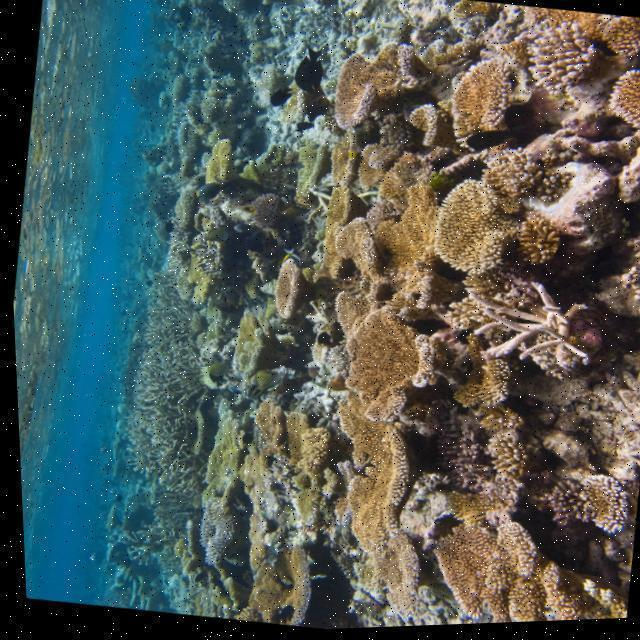Healthy Coral: (246, 0, 640, 633), (449, 275, 602, 389), (234, 389, 366, 499), (227, 542, 316, 632), (252, 252, 318, 331), (278, 142, 330, 218), (193, 133, 246, 196), (239, 189, 290, 234)
